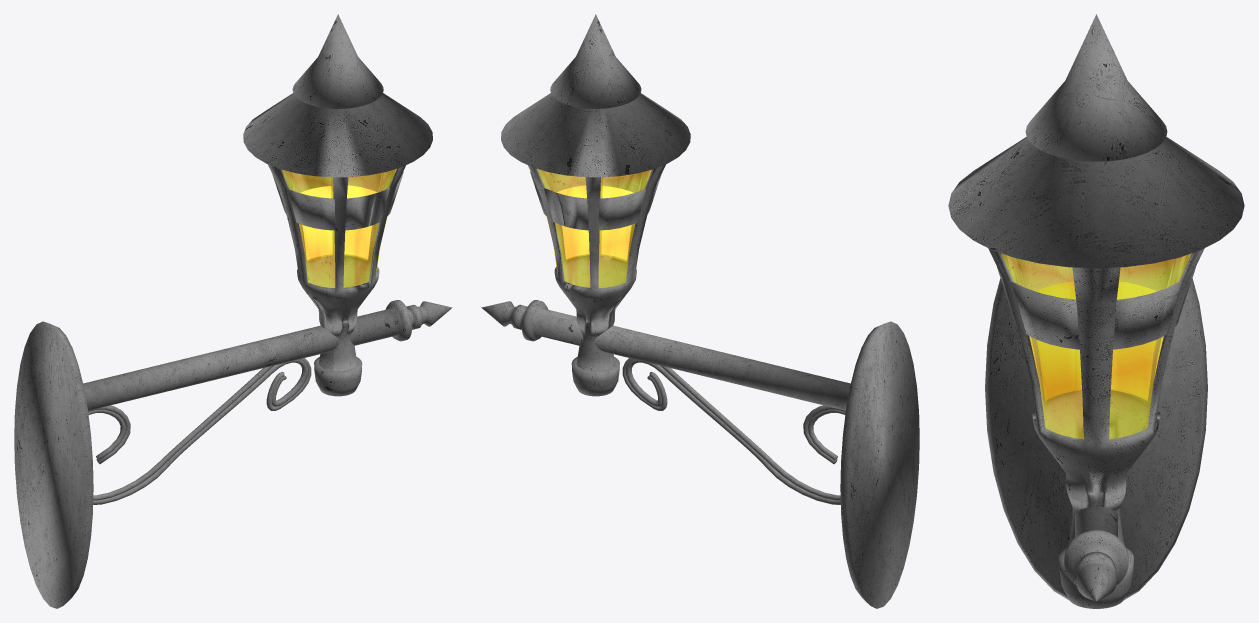
Rendered from wall_mounted_lantern.glb.
3 renders of one model, left to right at view 1: azimuth 30°, elevation 25°; view 2: azimuth 150°, elevation 25°; view 3: azimuth 270°, elevation 25°, orthographic. The views are drawn at different scales.
Parts seen in each view (by area): view 1: Lantern_0, WallMount_2, Pole_1, Support.001_4, Support_3; view 2: Lantern_0, WallMount_2, Pole_1, Support.001_4, Support_3; view 3: Lantern_0, WallMount_2, Pole_1.
Part boxes in pixels (x1,y1,x2,y2): Lantern_0: [243, 14, 432, 396]; WallMount_2: [14, 321, 93, 608]; Pole_1: [83, 300, 452, 410]; Support.001_4: [88, 358, 311, 500]; Support_3: [88, 359, 307, 504]; Lantern_0: [501, 14, 690, 396]; WallMount_2: [840, 321, 919, 608]; Pole_1: [481, 300, 850, 410]; Support.001_4: [622, 358, 845, 500]; Support_3: [626, 359, 845, 504]; Lantern_0: [948, 14, 1244, 608]; WallMount_2: [985, 278, 1207, 600]; Pole_1: [1064, 288, 1128, 601].
Size of the model in its own units: 2.94 by 3.64 by 1.2.
2 materials, 1 textured.
